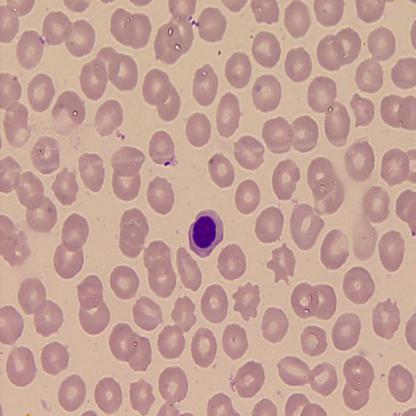NRC: (187, 207, 224, 258)
